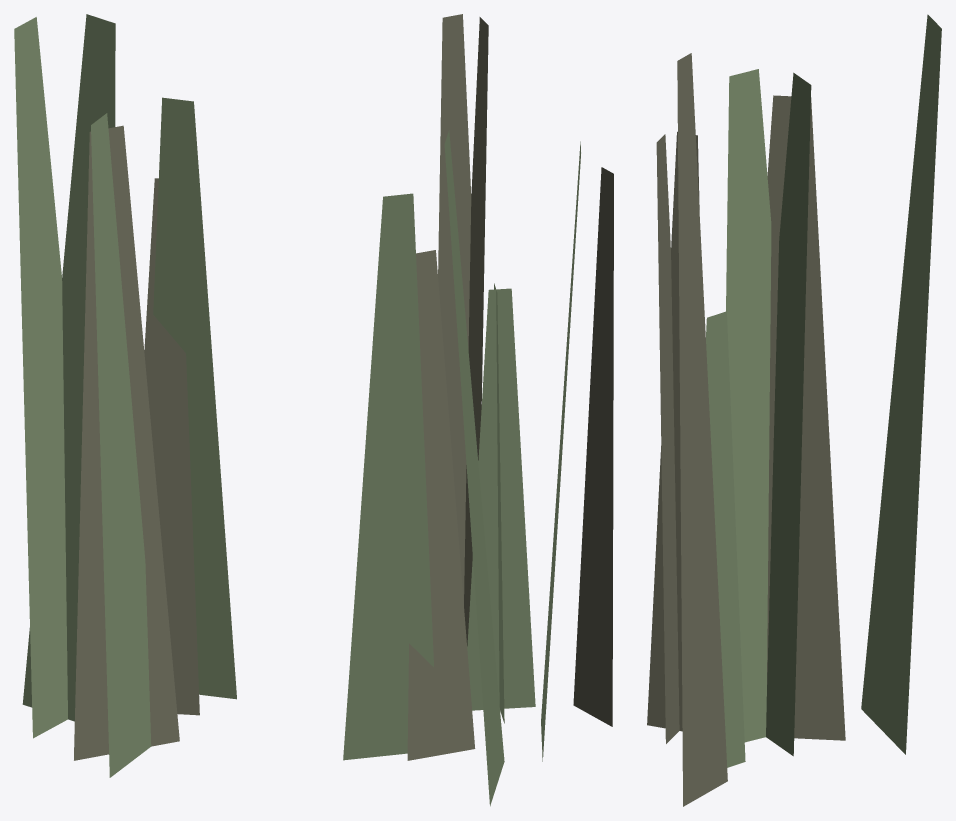
The model's file is cao.luwei@subadult__winter.glb.
3 renders of one model, left to right at view 1: azimuth 30°, elevation 25°; view 2: azimuth 150°, elevation 25°; view 3: azimuth 270°, elevation 25°, orthographic. The views are drawn at different scales.
Parts seen in each view (by area): view 1: cao.luwei@subadult__winter; view 2: cao.luwei@subadult__winter; view 3: cao.luwei@subadult__winter.
Part boxes in pixels (left/top/right/bottom): cao.luwei@subadult__winter: left=14, top=14, right=236, bottom=777; cao.luwei@subadult__winter: left=343, top=14, right=613, bottom=806; cao.luwei@subadult__winter: left=647, top=14, right=941, bottom=806.
Size of the model in its own units: 0.3813 by 1.33 by 0.4852.
